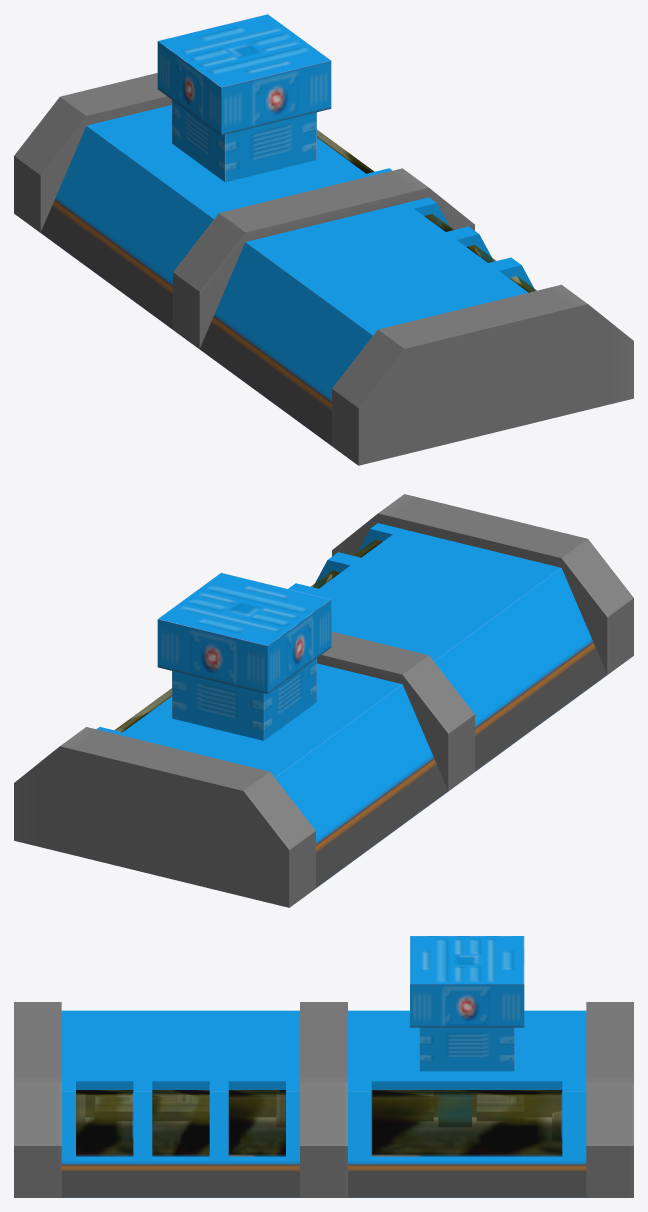
Rendered from huston1.gltf.
The picture shows the model from 3 angles, top to bottom: view 1: azimuth 30°, elevation 25°; view 2: azimuth 150°, elevation 25°; view 3: azimuth 270°, elevation 25°; orthographic projection. The views are drawn at different scales.
Parts seen in each view (by area): view 1: huston1; view 2: huston1; view 3: huston1.
Boxes of the visible parts, x1,y1,x2,y2 form: huston1: (14, 14, 633, 465); huston1: (14, 494, 633, 907); huston1: (14, 936, 633, 1197).
Size of the model in its own units: 60 by 41 by 130.
